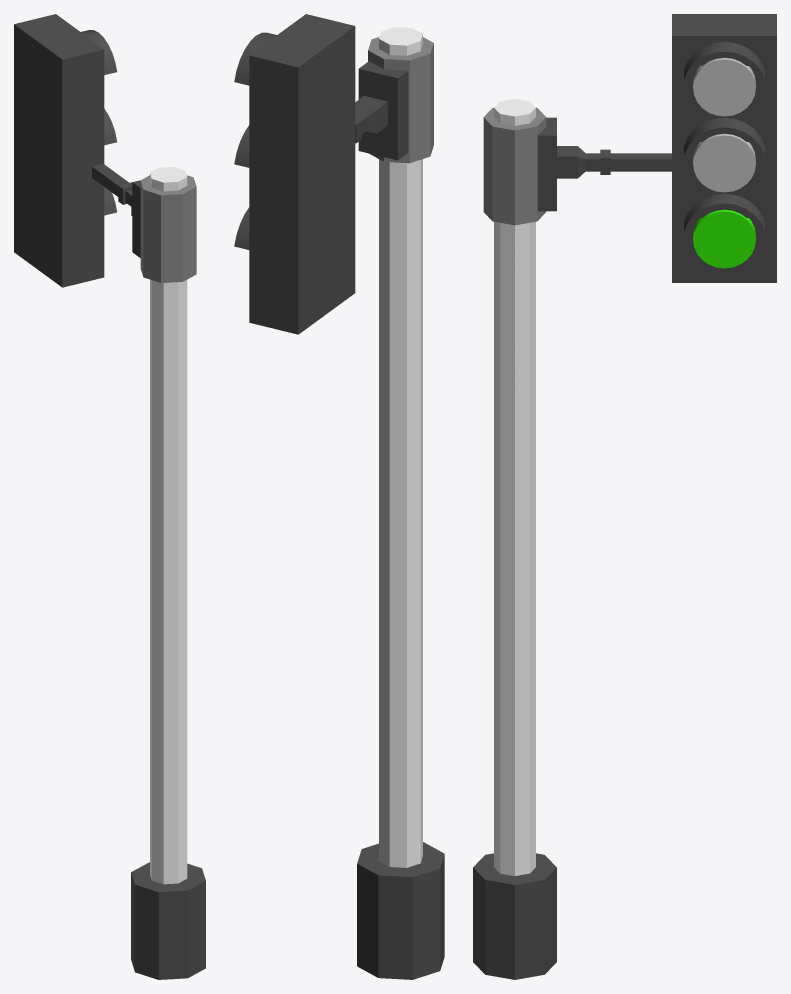
The model's file is trafficlight.obj.
3 views of the same model, side by side, from view 1: azimuth 30°, elevation 25°; view 2: azimuth 150°, elevation 25°; view 3: azimuth 270°, elevation 25° (orthographic). The views are drawn at different scales.
Size of the model in its own units: 0.8 by 9.8 by 2.9.
